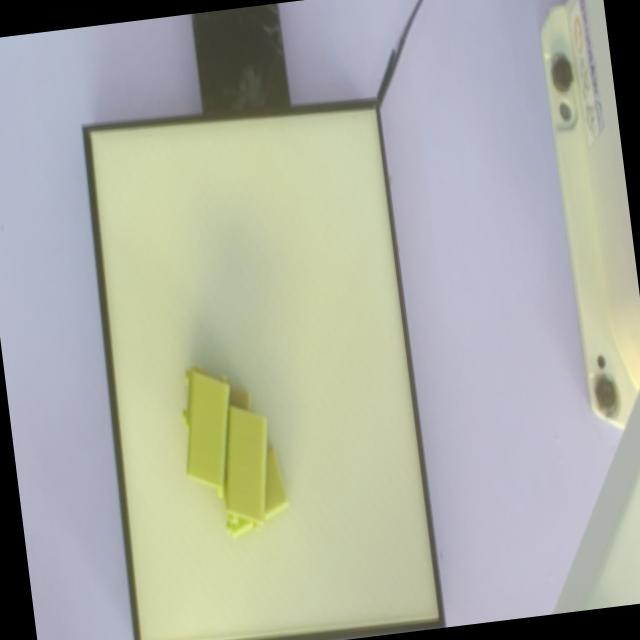bateria: (185, 361, 230, 493), (227, 406, 268, 528)
mesa: (81, 98, 444, 640)
